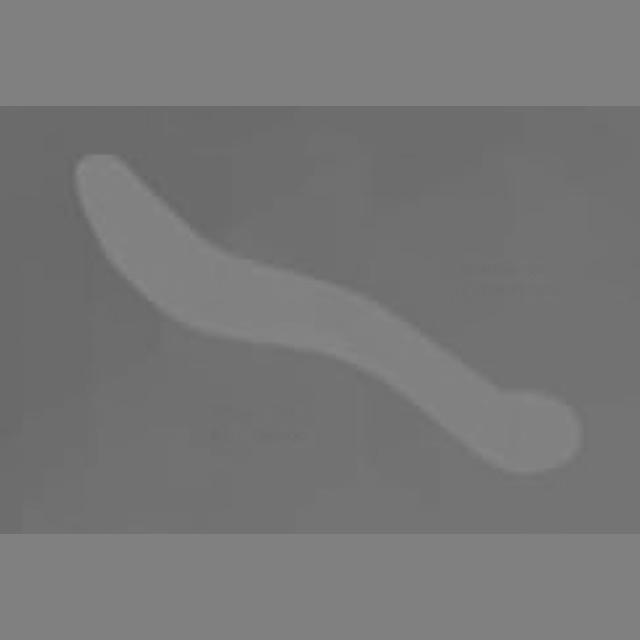separador: (71, 153, 586, 478)
